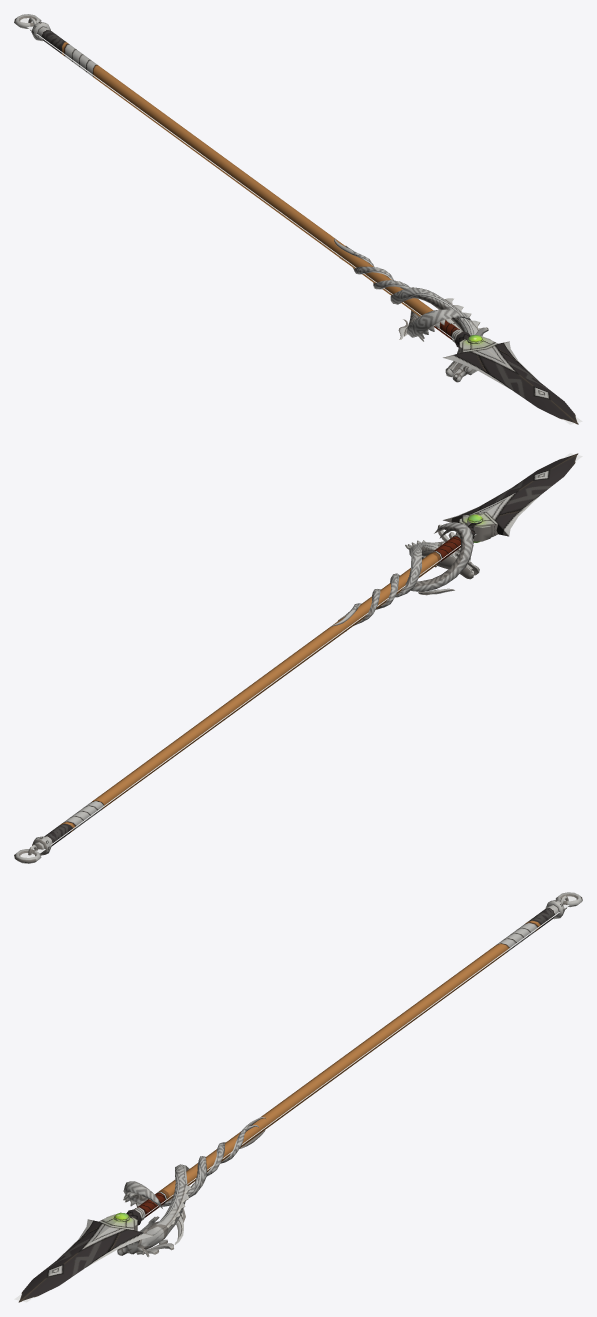
Rendered from Equip_Pole_Lapis.fbx.
The picture shows the model from 3 angles, top to bottom: view 1: azimuth 30°, elevation 25°; view 2: azimuth 150°, elevation 25°; view 3: azimuth 330°, elevation 25°; orthographic projection.
Visible parts, largest first — view 1: Equip_Pole_Lapis_Model, Equip_Pole_EffectMesh; view 2: Equip_Pole_Lapis_Model, Equip_Pole_EffectMesh; view 3: Equip_Pole_Lapis_Model, Equip_Pole_EffectMesh.
Boxes of the visible parts, x1,y1,x2,y2 form: Equip_Pole_Lapis_Model: (14, 14, 578, 424); Equip_Pole_EffectMesh: (20, 18, 582, 424); Equip_Pole_Lapis_Model: (14, 453, 578, 863); Equip_Pole_EffectMesh: (20, 453, 582, 857); Equip_Pole_Lapis_Model: (18, 892, 582, 1302); Equip_Pole_EffectMesh: (14, 896, 576, 1302).
Bounding box in the file's own units: 0.1612 × 0.1297 × 2.12.
2 materials, 1 textured.
